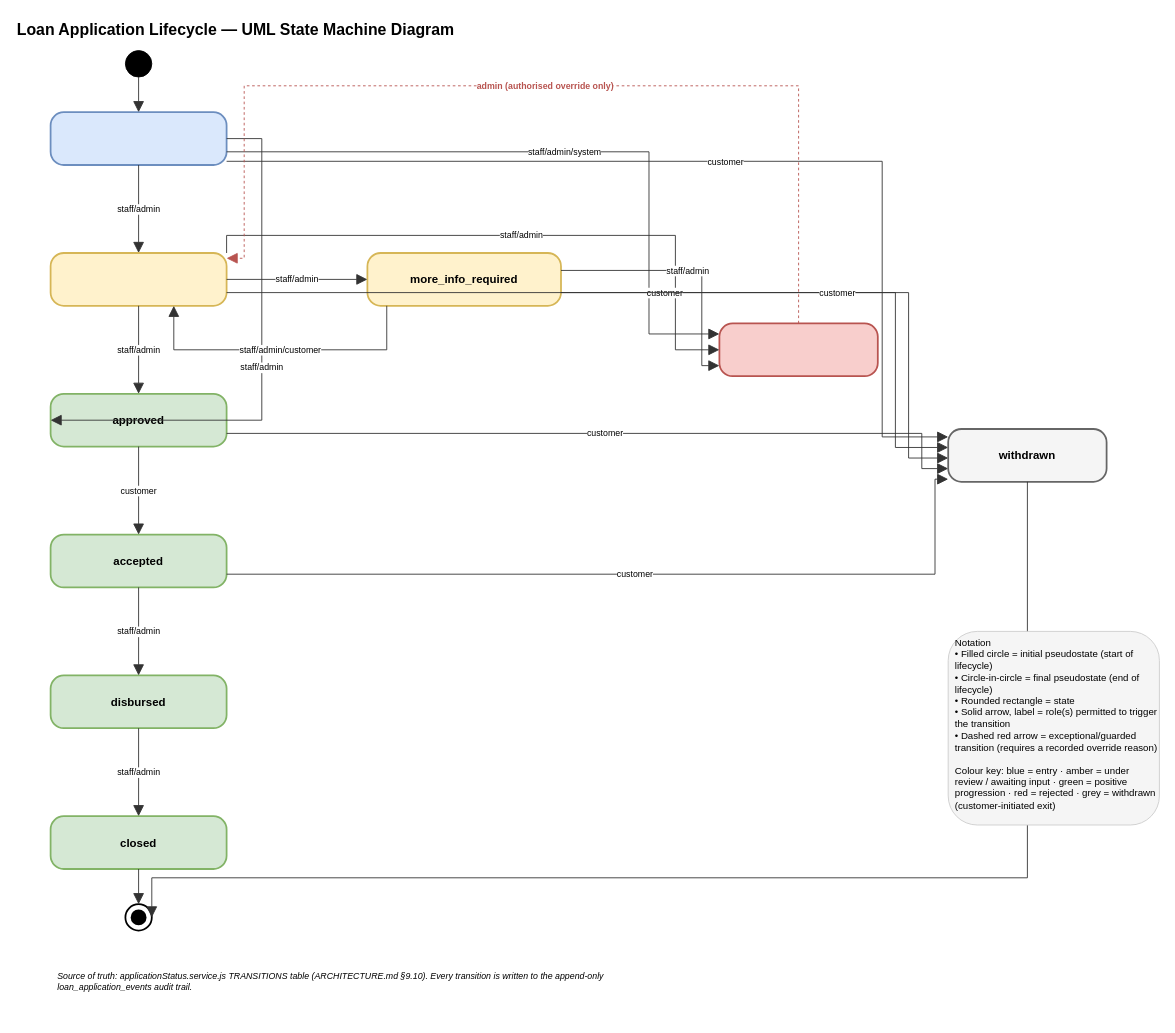
Some shapes in this 1175 by 1033 pixel diagram are drawn without their labels. Here are the shapes that lost their labels. From the top down, the box of each, then its label:
(49, 111, 227, 165): pending
(49, 252, 227, 306): under_review
(718, 322, 878, 377): rejected
